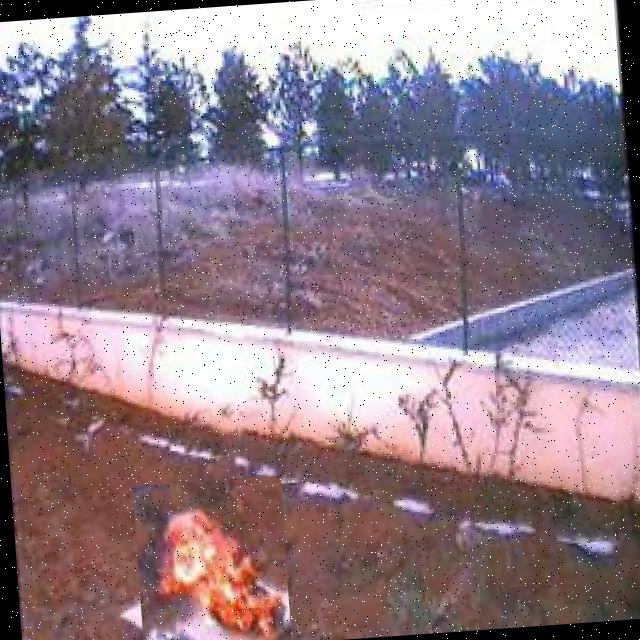fire: (132, 475, 291, 640)
